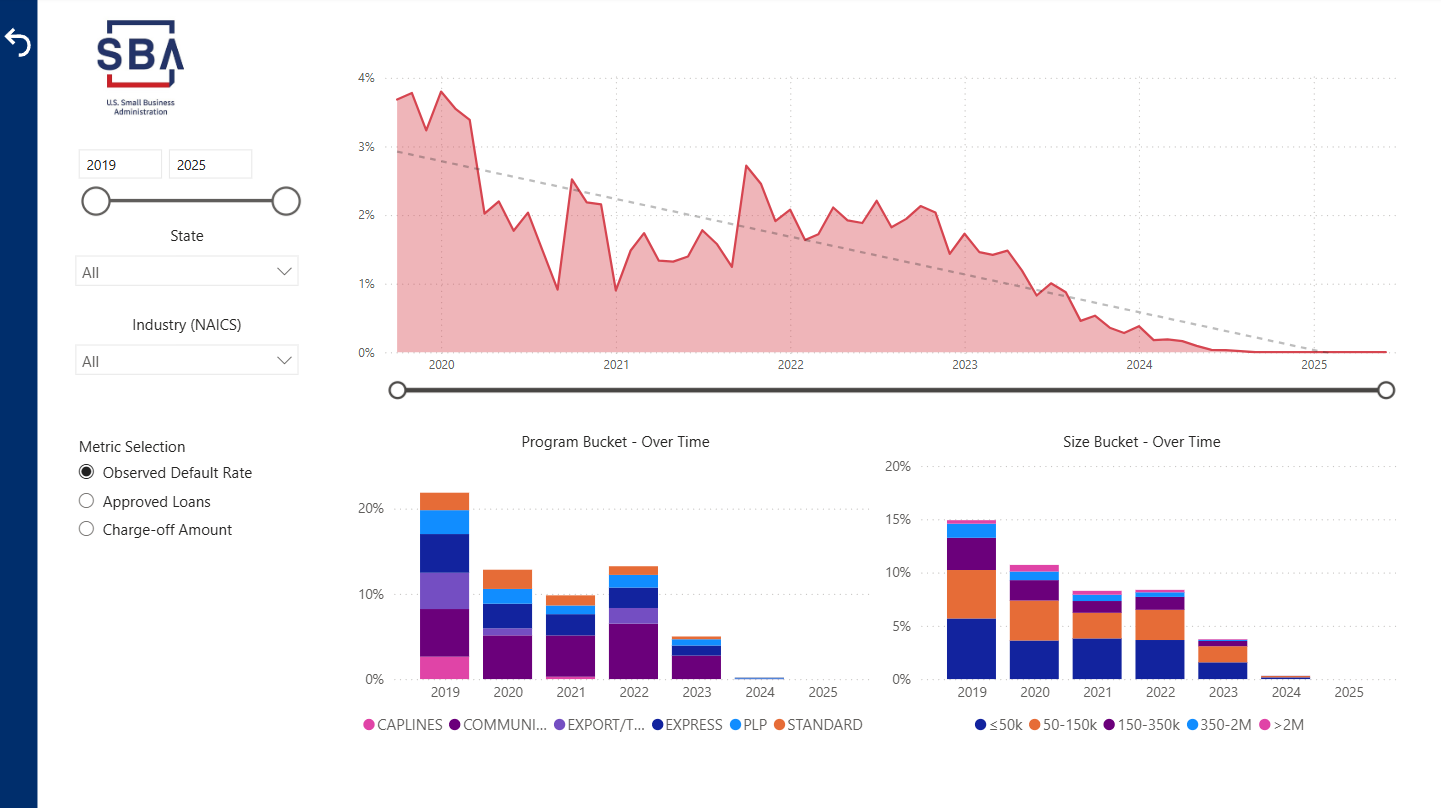

This screenshot's page, from the dashboard's own definition file:
{"tool":"powerbi","page":{"name":"Cohorts / Vintages","canvas":[1280,720],"ordinal":2},"visuals":[{"type":"shape","box":[0,0,35.5,720],"z":0},{"type":"lineChart","title":"ODR by Approval Month","fields":{"Y":["Measure Table.ODR (stable)"],"Category":["fact_loans.approval_ym.Variation.Date Hierarchy.Year","fact_loans.approval_ym.Variation.Date Hierarchy.Month"]},"box":[481.1,66.7,776.7,308.9],"z":1000},{"type":"slicer","title":"Approval Date","fields":{"Values":["fact_loans.approval_ym"]},"box":[64.3,147.6,217.3,109.5],"z":2000},{"type":"slicer","title":"State","fields":{"Values":["fact_loans.project_state"]},"box":[64.3,257.1,217.3,78.8],"z":3000},{"type":"slicer","title":"Industry (NAICS)","fields":{"Values":["fact_loans.naics_code_2"]},"box":[64.3,335.8,217.3,78.8],"z":4000},{"type":"textbox","box":[64,21,378,89],"z":5000},{"type":"textbox","box":[64,102,378,37],"z":6000},{"type":"columnChart","title":"ODR by Size Bucket - Over Time","fields":{"Category":["fact_loans.approval_ym.Variation.Date Hierarchy.Year","fact_loans.approval_ym.Variation.Date Hierarchy.Month"],"Y":["Measure Table.ODR"],"Series":["fact_loans.size_bucket"]},"box":[672.2,414.4,575.6,278.9],"z":7000},{"type":"columnChart","title":"ODR by Program Bucket - Over Time","fields":{"Category":["fact_loans.approval_ym.Variation.Date Hierarchy.Year","fact_loans.approval_ym.Variation.Date Hierarchy.Month"],"Y":["Measure Table.ODR"],"Series":["fact_loans.processing_bucket"]},"box":[64,415,576,279],"z":8000}]}

Visuals, with their boxes on the page's 1280x720 design canvas (x1, y1, x2, y2). These are canvas units, not pixel positions in the 1441x808 screenshot, which may show the page scaled, cropped or inside an application window:
shape: detection(0, 0, 36, 720)
"ODR by Approval Month" lineChart: detection(481, 67, 1258, 376)
"Approval Date" slicer: detection(64, 148, 282, 257)
"State" slicer: detection(64, 257, 282, 336)
"Industry (NAICS)" slicer: detection(64, 336, 282, 415)
textbox: detection(64, 21, 442, 110)
textbox: detection(64, 102, 442, 139)
"ODR by Size Bucket - Over Time" columnChart: detection(672, 414, 1248, 693)
"ODR by Program Bucket - Over Time" columnChart: detection(64, 415, 640, 694)
